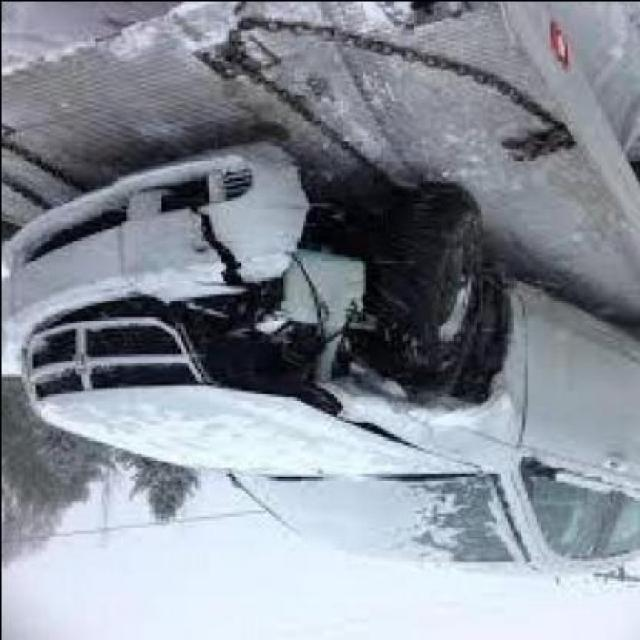damage: (29, 140, 526, 457)
